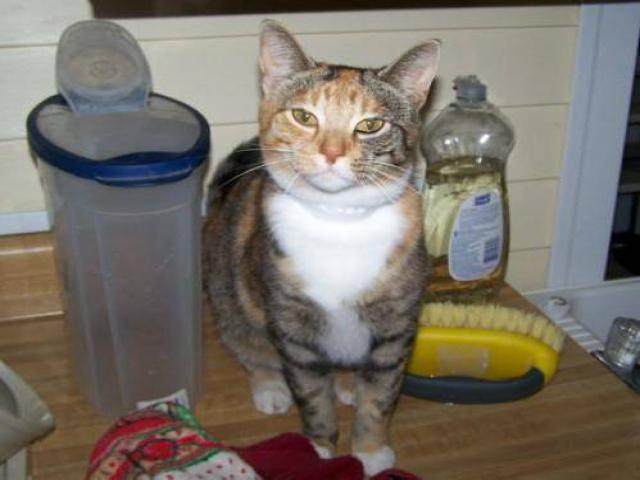cat: (204, 27, 445, 457)
